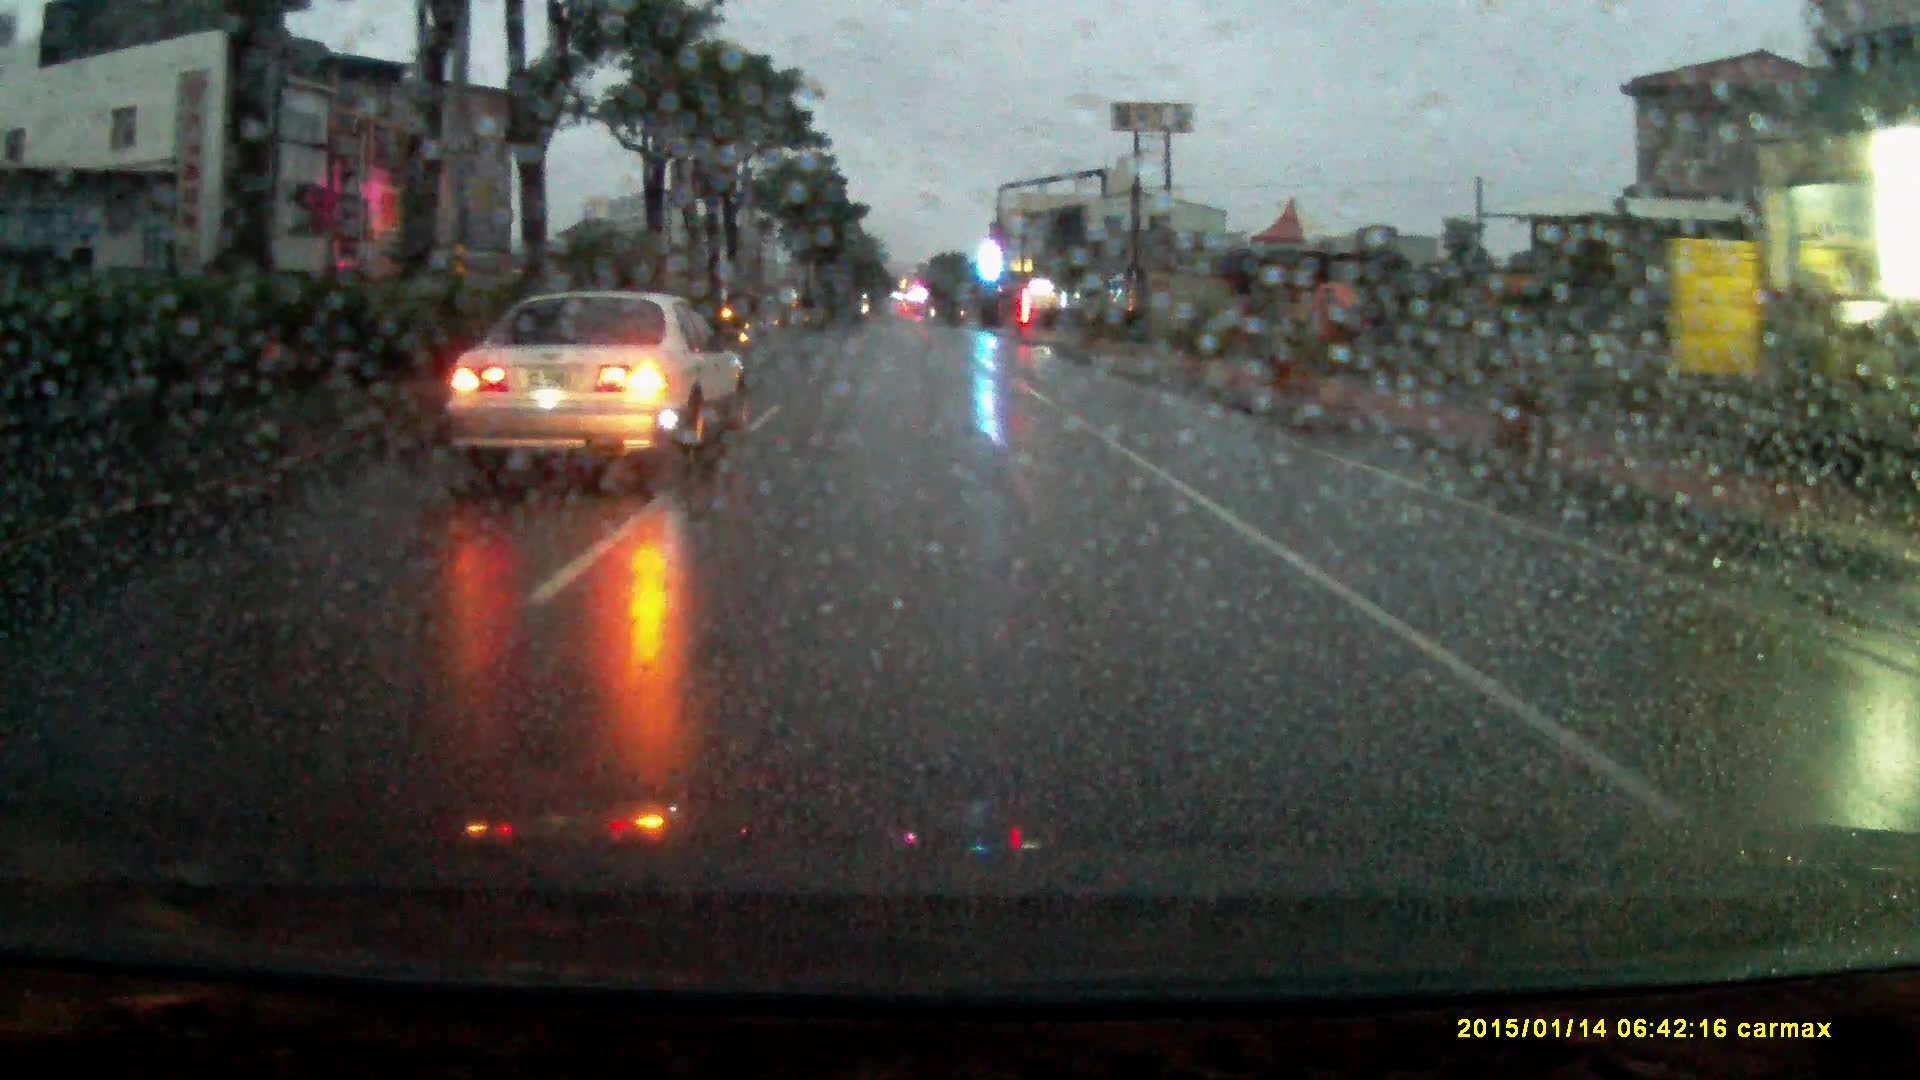pedestrian: (1299, 277, 1360, 390)
vehicle: (451, 288, 761, 492)
